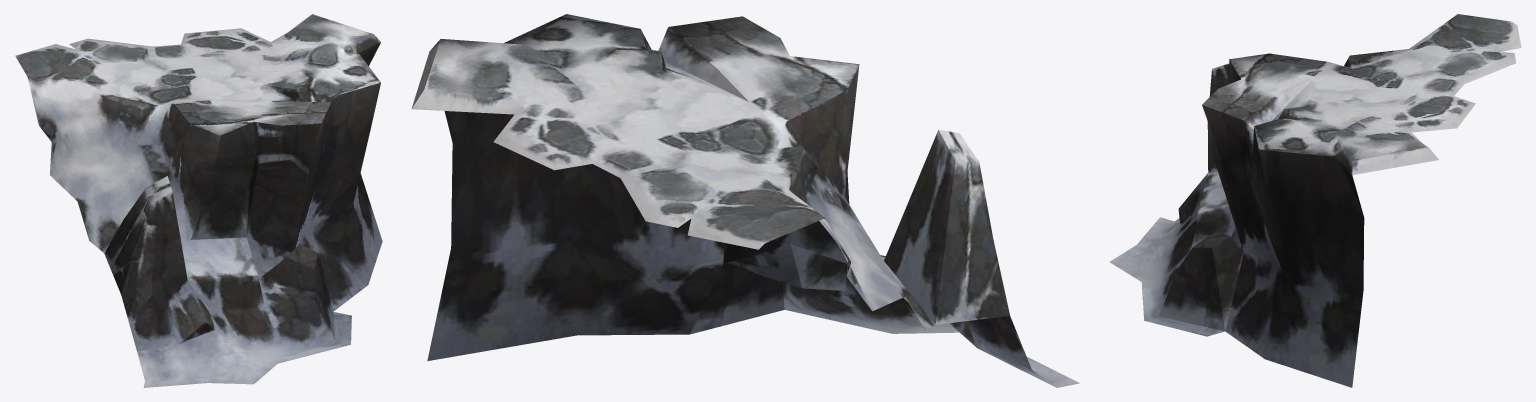
Rendered from 2005_Item_shitou_4.FBX.
3 views of the same model, side by side, from view 1: azimuth 30°, elevation 25°; view 2: azimuth 150°, elevation 25°; view 3: azimuth 270°, elevation 25° (orthographic). The views are drawn at different scales.
Visible parts, largest first — view 1: 2005_Item_shitou_4; view 2: 2005_Item_shitou_4; view 3: 2005_Item_shitou_4.
Boxes of the visible parts, <box> form: 2005_Item_shitou_4: <box>15,14,382,387</box>; 2005_Item_shitou_4: <box>411,14,1079,387</box>; 2005_Item_shitou_4: <box>1110,14,1521,387</box>.
Bounding box in the file's own units: 316 × 194 × 322.
